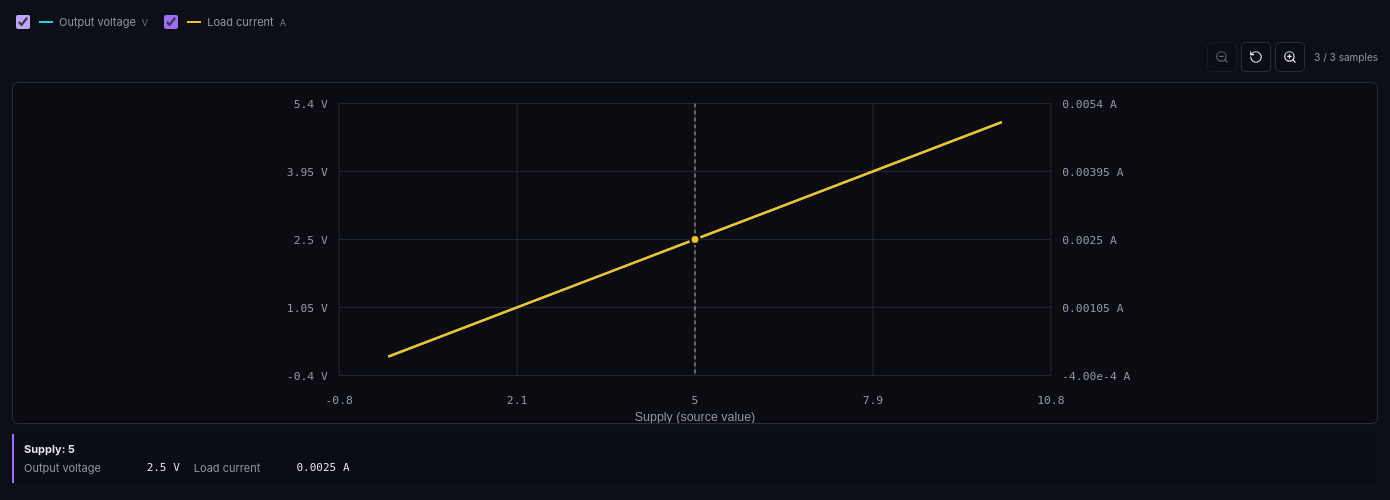
it: CircuitSweepPlot › synchronizes the cursor across traces and exposes bounded zoom controls
Check: the text "Supply: 5" is shown, box [24,442,75,456]
Check: the element with class "circuit-sweep-cursor-readout" is shown, box [12,434,1378,483]
Click the button named "Zoom in sweep plot": (1290, 57) [1275,42,1305,72]
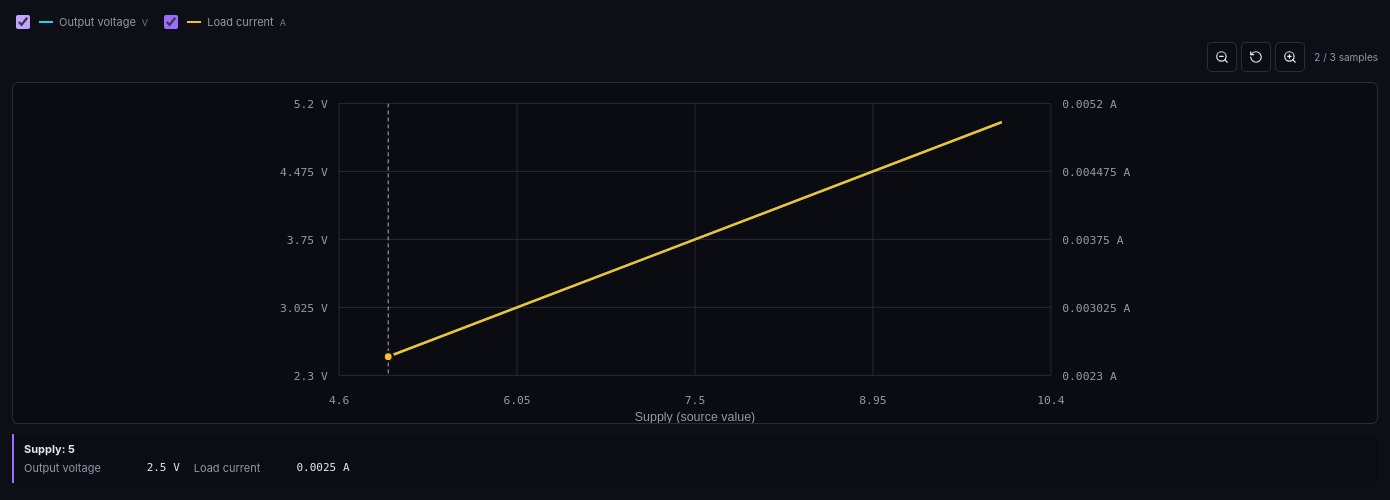
Check: the text "2 / 3 samples" is shown, box [1314,51,1378,63]
Click the button named "Reset sweep plot view": (1256, 57) [1241,42,1271,72]
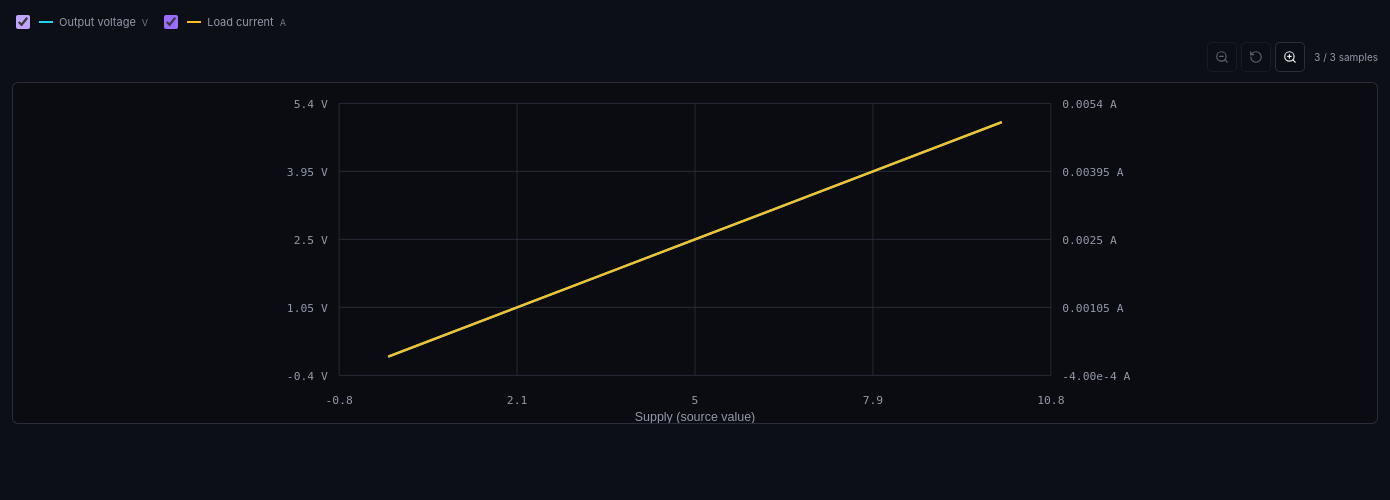
Check: the text "3 / 3 samples" is shown, box [1314,51,1378,63]
